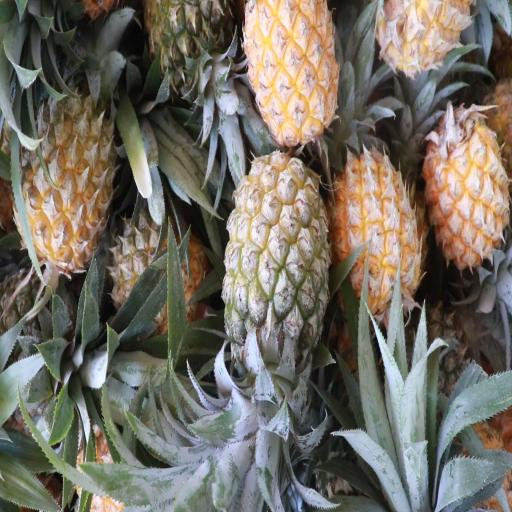------------------------------: (225, 151, 330, 370), (114, 204, 209, 330)
Pineapple - v8 v1: (19, 86, 114, 265), (426, 101, 508, 268), (333, 153, 418, 313), (245, 1, 339, 137)
